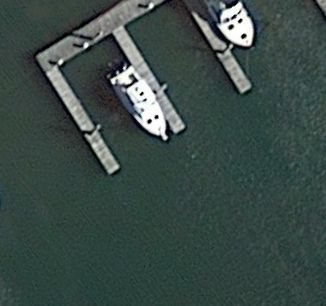boat: (107, 64, 168, 144)
